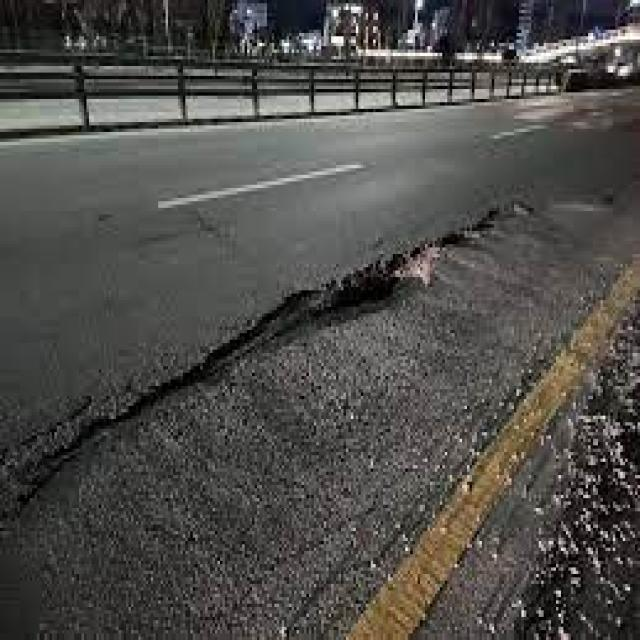pothole: (283, 212, 441, 357)
